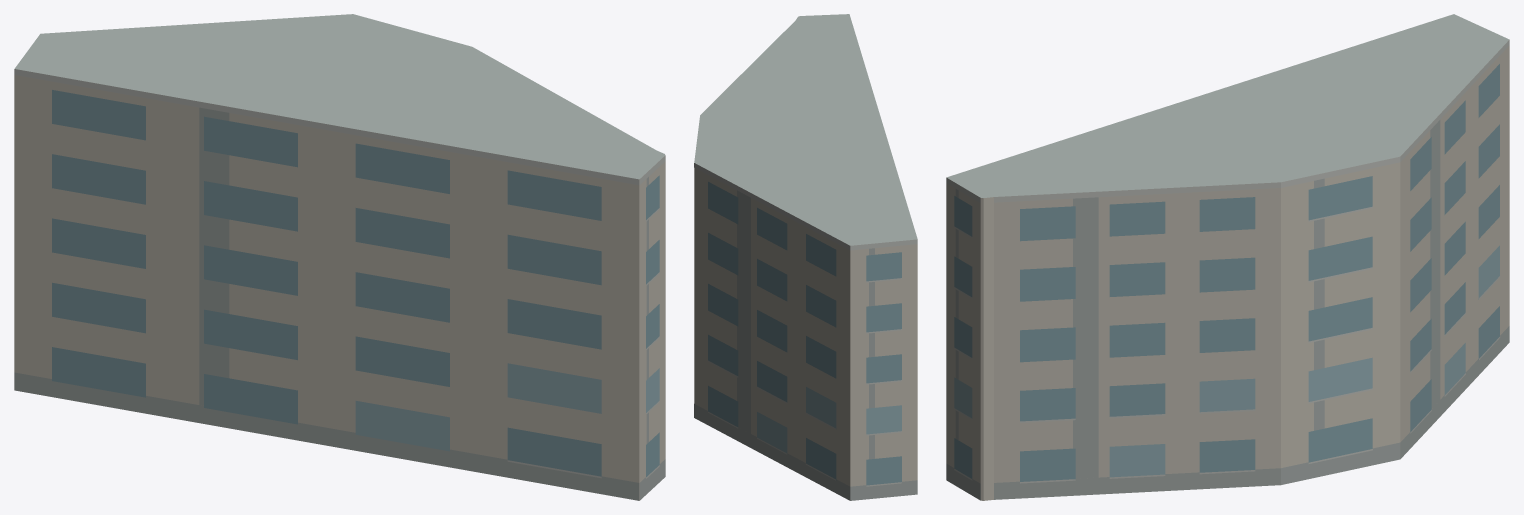
File: residential-c96743ca-8c3e-4ede-bc69-faf5e5314e10.glb
3 views of the same model, side by side, from view 1: azimuth 30°, elevation 25°; view 2: azimuth 150°, elevation 25°; view 3: azimuth 270°, elevation 25° (orthographic). The views are drawn at different scales.
Visible parts, largest first — view 1: residential-c96743ca-8c3e-4ede-bc69-faf5e5314e10.tmp; view 2: residential-c96743ca-8c3e-4ede-bc69-faf5e5314e10.tmp; view 3: residential-c96743ca-8c3e-4ede-bc69-faf5e5314e10.tmp.
Boxes of the visible parts, x1,y1,x2,y2 form: residential-c96743ca-8c3e-4ede-bc69-faf5e5314e10.tmp: (14,14,665,500); residential-c96743ca-8c3e-4ede-bc69-faf5e5314e10.tmp: (694,14,917,500); residential-c96743ca-8c3e-4ede-bc69-faf5e5314e10.tmp: (946,14,1509,500).
Bounding box in the file's own units: 17.09 × 13.1 × 22.1.
